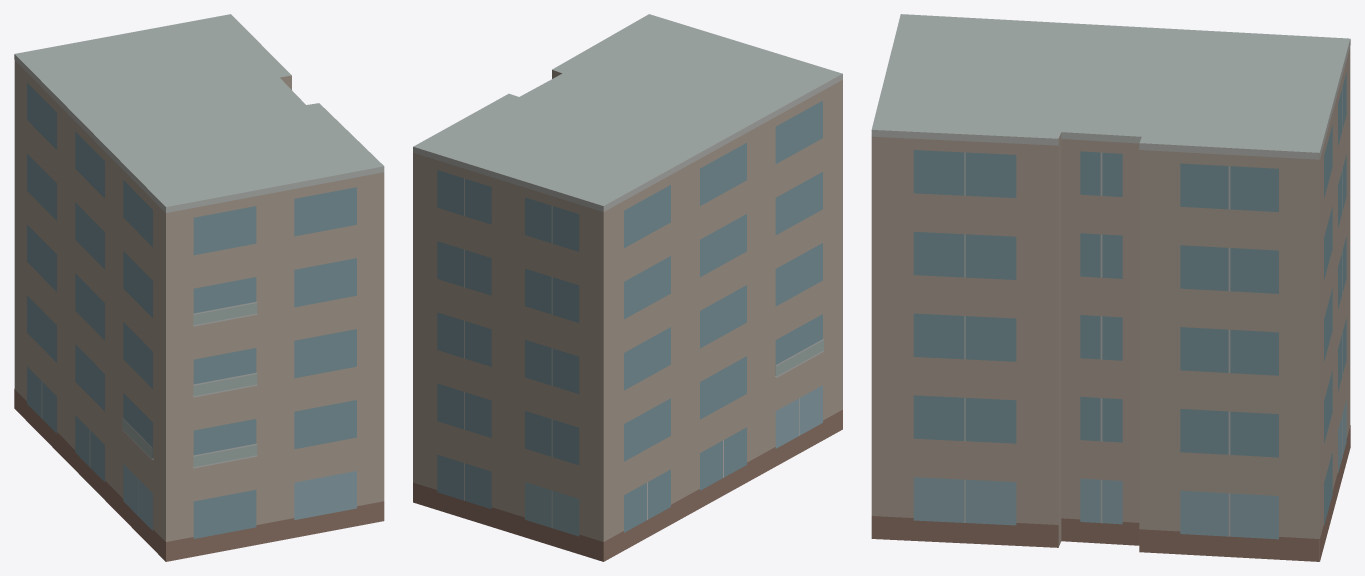
File: survey-upis-32762592.glb
3 views of the same model, side by side, from view 1: azimuth 30°, elevation 25°; view 2: azimuth 150°, elevation 25°; view 3: azimuth 270°, elevation 25° (orthographic). The views are drawn at different scales.
Visible parts, largest first — view 1: survey-upis-32762592.tmp; view 2: survey-upis-32762592.tmp; view 3: survey-upis-32762592.tmp.
Part boxes in pixels (box(x1,y1,x2,y2)): survey-upis-32762592.tmp: box(14, 14, 384, 561); survey-upis-32762592.tmp: box(413, 14, 842, 561); survey-upis-32762592.tmp: box(871, 14, 1350, 561).
Size of the model in its own units: 10.68 by 14.65 by 15.56.
